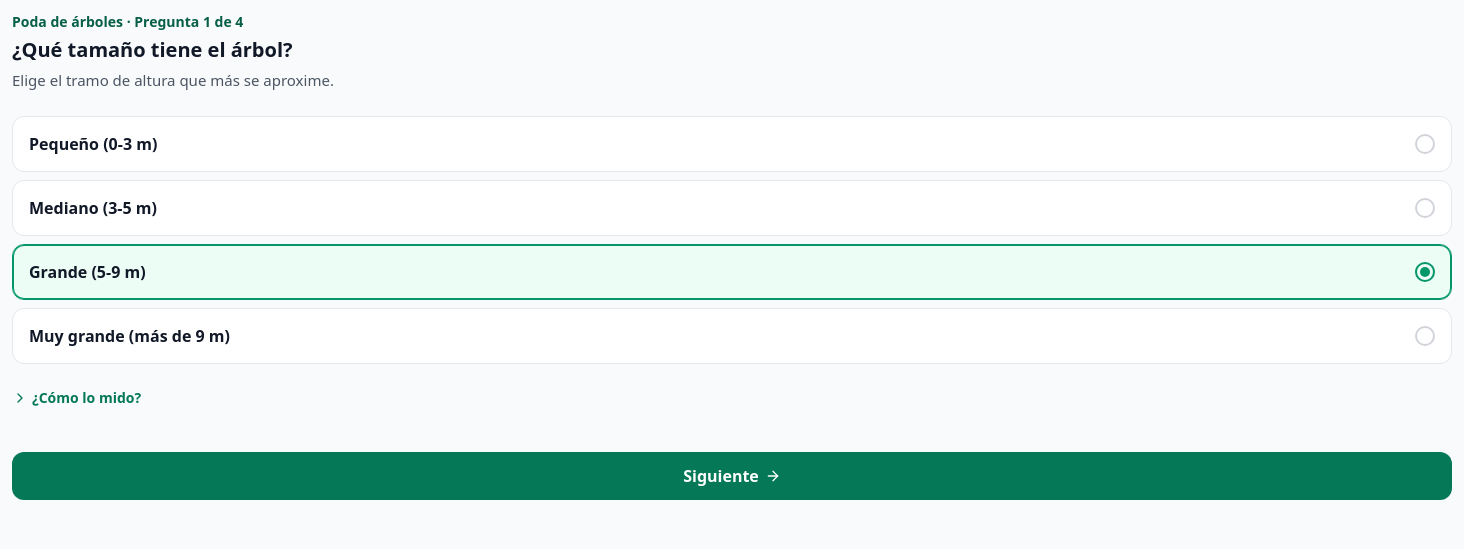
Test: árboles · «Duplicar» (D-04) › un árbol a medias no se puede duplicar; otros servicios no ofrecen «Duplicar»
The image size is (1464, 549).
Later steps or results of the test are not shown.
Click the button "Siguiente" at (732, 476), box [12,452,1452,500]
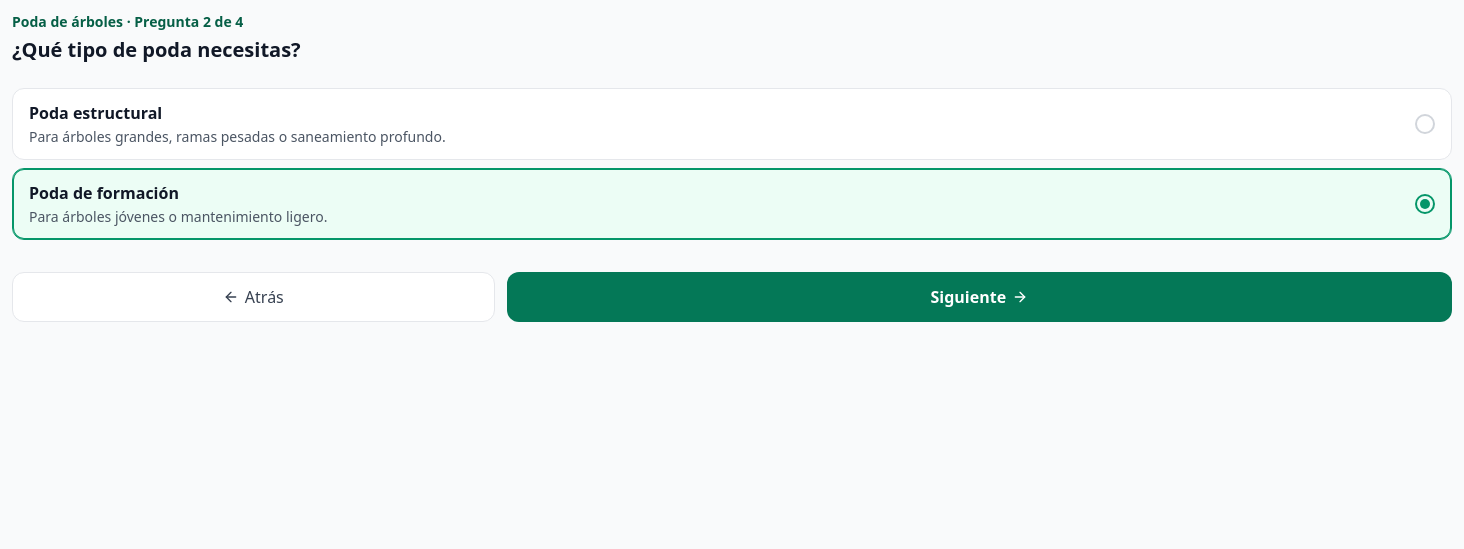
Click the button "Siguiente" at (979, 297), box [507,272,1452,322]
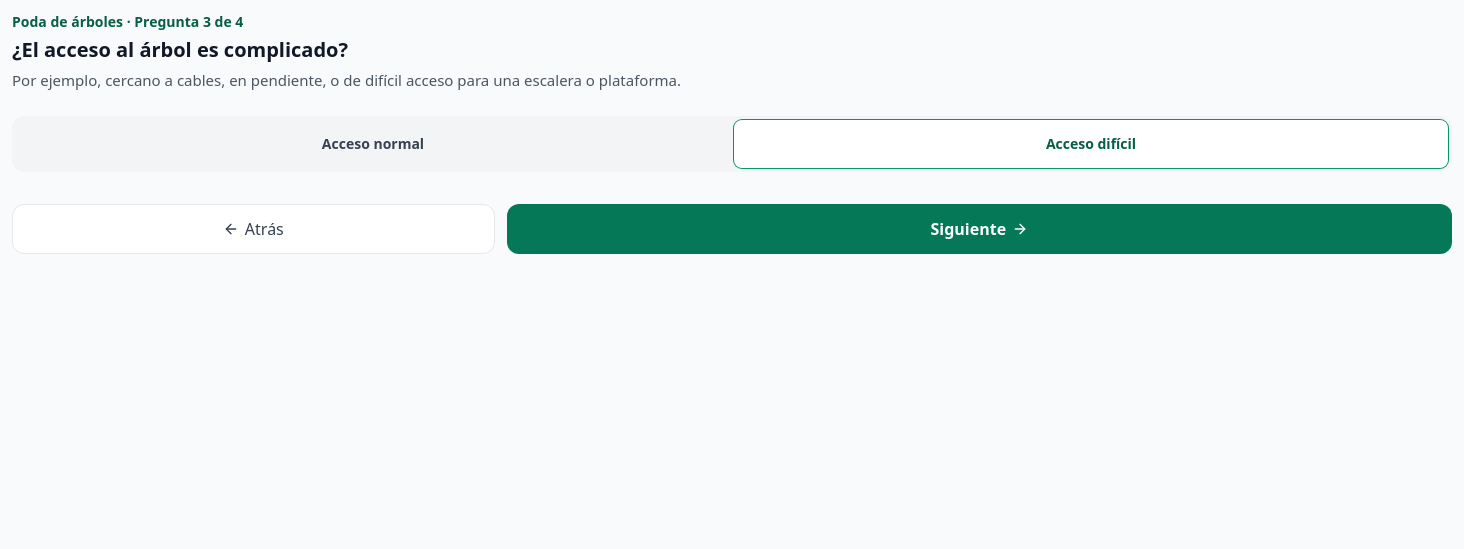
Click the button "Siguiente" at (979, 229), box [507,204,1452,254]
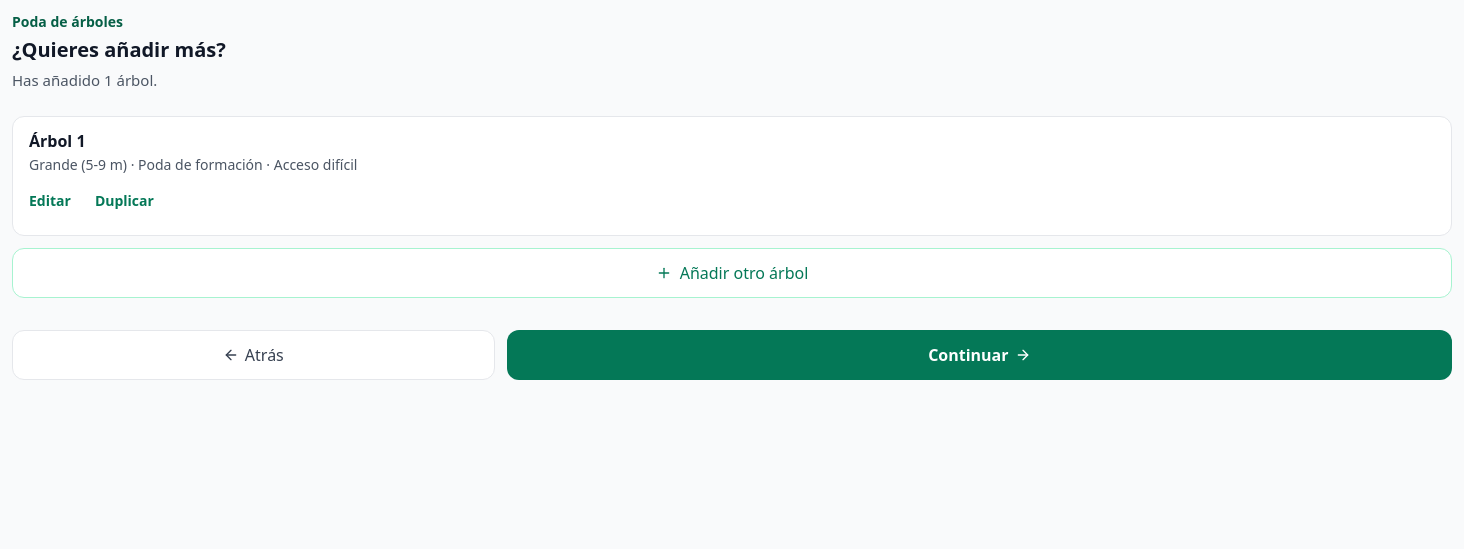
Click the button "Añadir otro árbol" at (732, 273), box [12,248,1452,298]
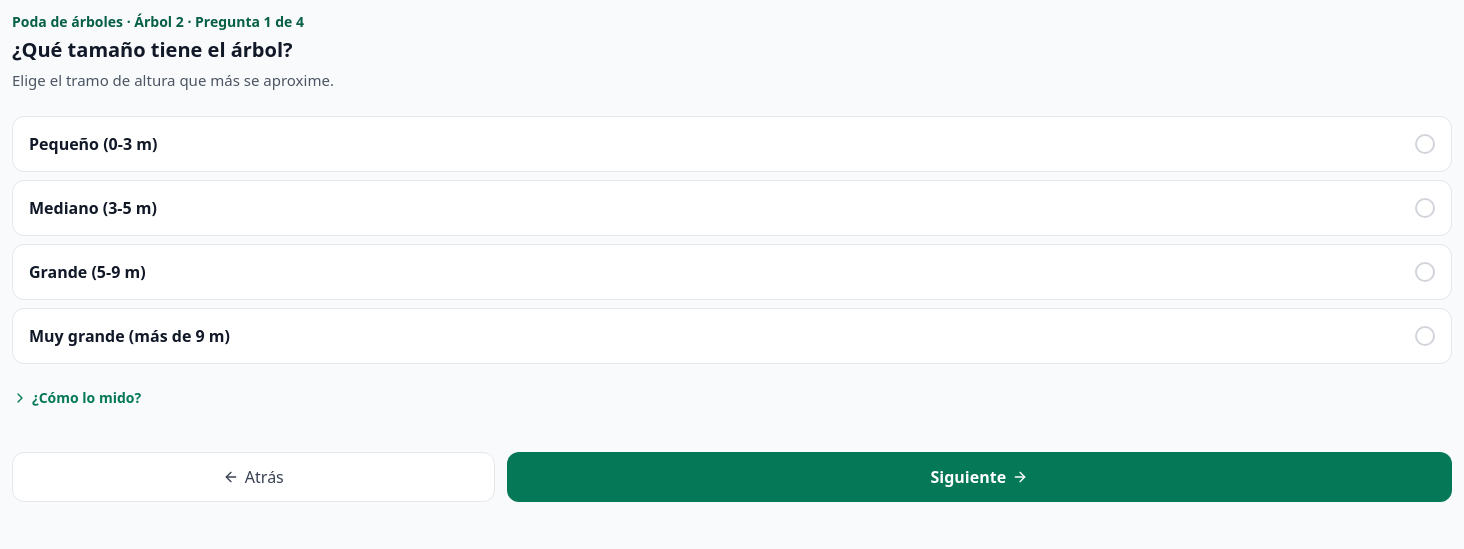
Click the radio button labelled "Pequeño (0-3 m)" at (93, 144), box [12,116,1452,172]
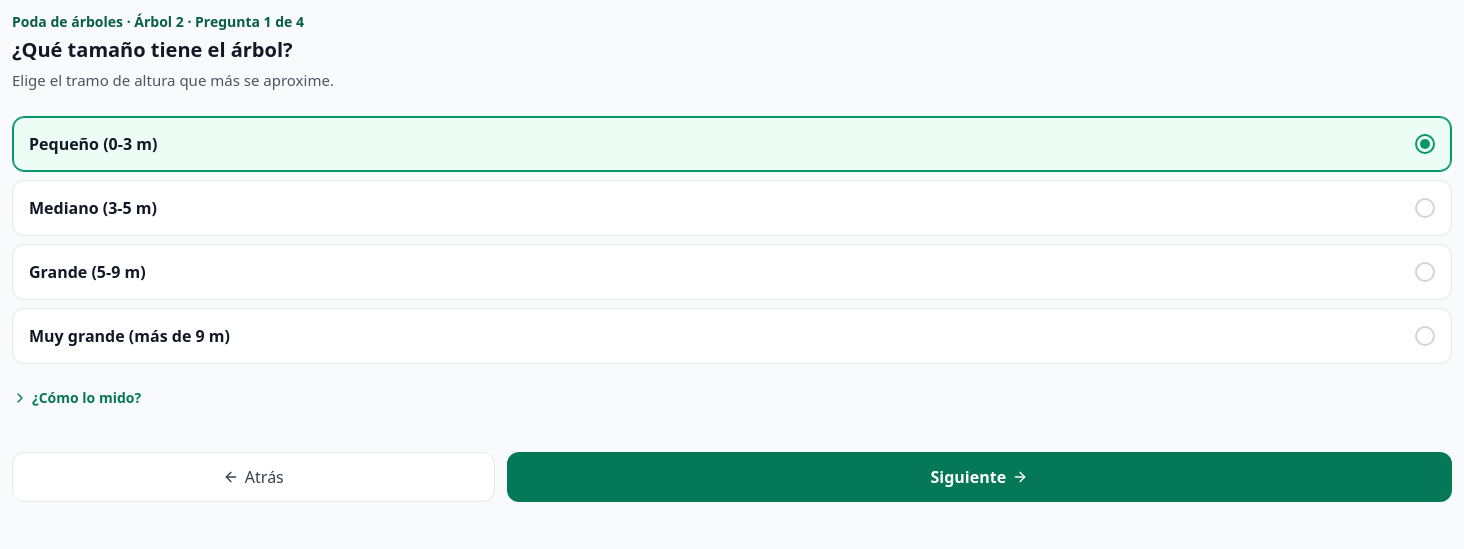
Click the button "Atrás" at (253, 477), box [12,452,495,502]
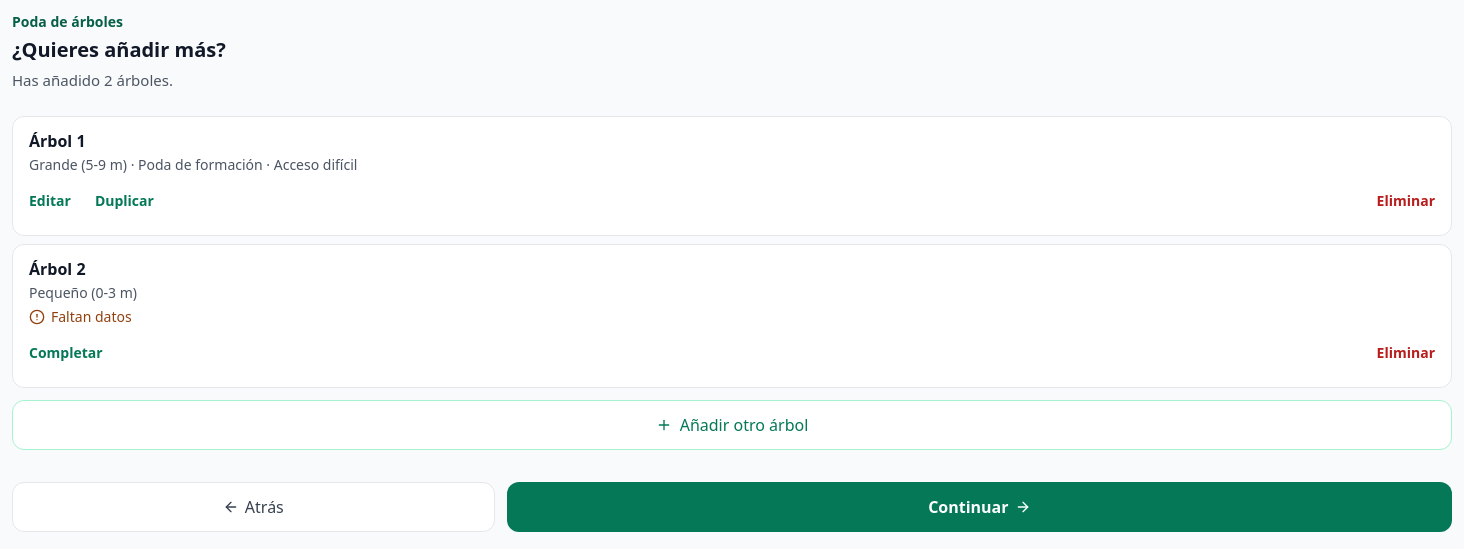
Result: the text "Faltan datos" is shown at [29,307,132,326]
Result: the button with aria-label "Duplicar árbol 1" is shown at [83,179,166,223]
